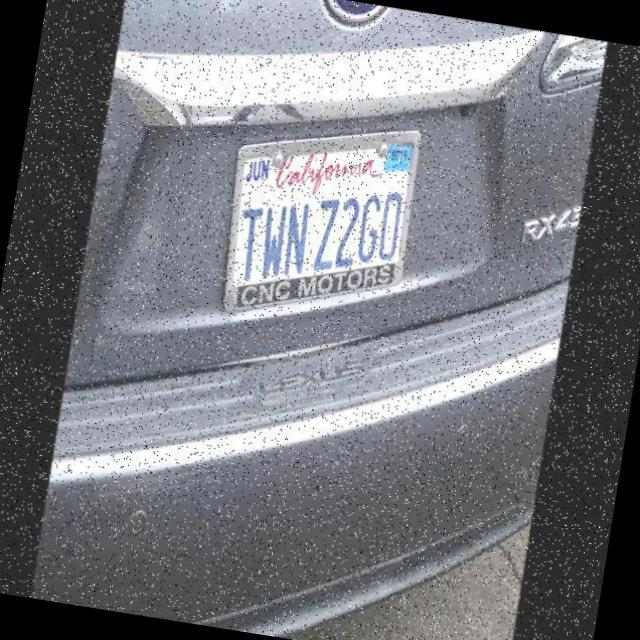LicensePlate: (208, 92, 436, 350)
